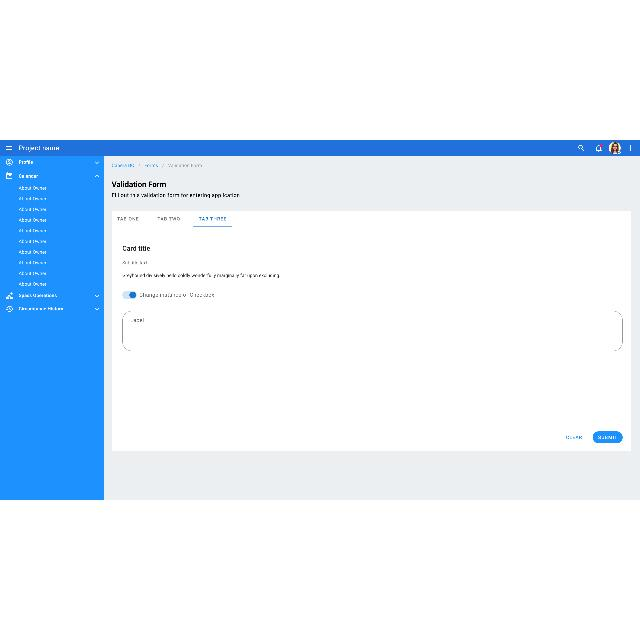QLabel: (122, 272, 280, 278), (111, 193, 241, 199), (139, 292, 215, 298), (112, 180, 166, 188), (18, 144, 59, 152), (121, 246, 151, 252), (120, 260, 150, 266), (156, 216, 180, 222), (564, 434, 584, 440), (198, 217, 226, 221), (117, 217, 139, 221), (597, 436, 617, 440)
QMenu: (0, 156, 104, 499)
VAppBar: (0, 140, 640, 156)
VBadge: (608, 142, 622, 154), (596, 144, 602, 152)
VBreadcrumbs: (110, 163, 202, 169)
VBtn: (592, 431, 622, 443)
VIcon: (5, 144, 13, 152), (578, 144, 584, 152), (630, 145, 632, 151)
VSwitch: (121, 290, 137, 300)
VTabs: (110, 210, 632, 452)
VTextarea: (122, 310, 622, 352)
